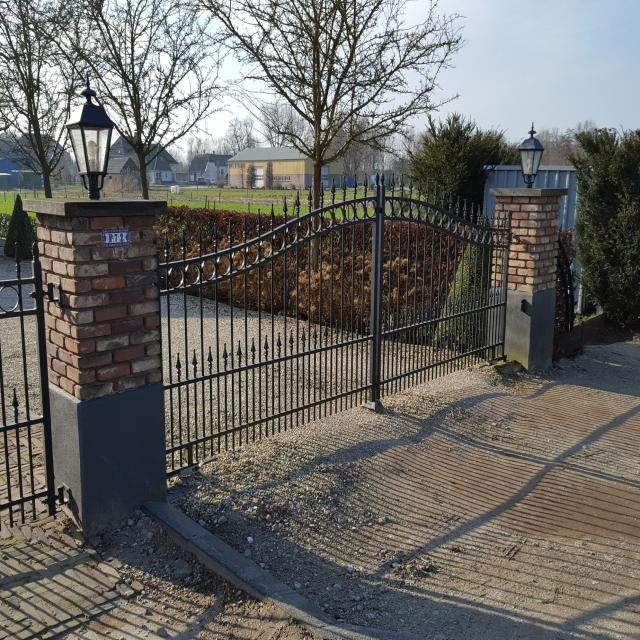fence line: (177, 194, 512, 441)
